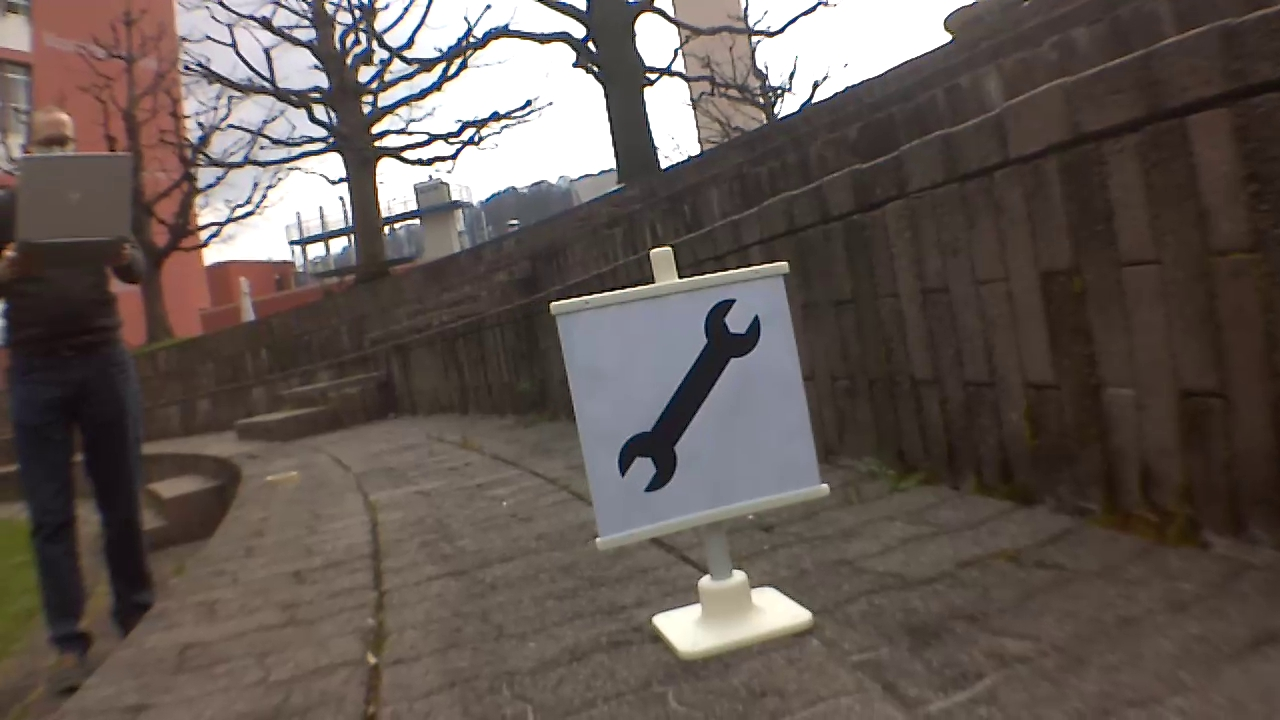wrench: (618, 293, 770, 493)
